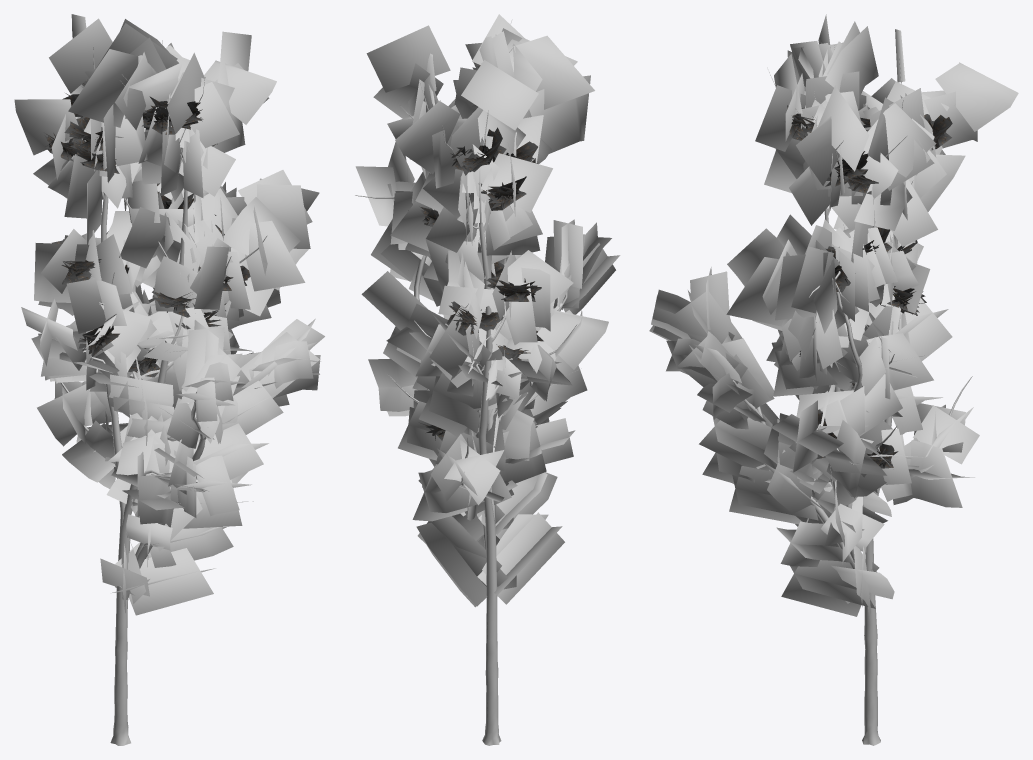
File: Old_Horror_Tree9254.fbx
3 views of the same model, side by side, from view 1: azimuth 30°, elevation 25°; view 2: azimuth 150°, elevation 25°; view 3: azimuth 270°, elevation 25° (orthographic). The views are drawn at different scales.
Parts seen in each view (by area): view 1: Old_Horror_Tree9254_Branches_08, Old_Horror_Tree9254_diffus, Old_Horror_Tree9254_RiverBirchBark; view 2: Old_Horror_Tree9254_Branches_08, Old_Horror_Tree9254_RiverBirchBark, Old_Horror_Tree9254_diffus; view 3: Old_Horror_Tree9254_Branches_08, Old_Horror_Tree9254_RiverBirchBark, Old_Horror_Tree9254_diffus.
Boxes of the visible parts, x1,y1,x2,y2 form: Old_Horror_Tree9254_Branches_08: [14, 14, 324, 615]; Old_Horror_Tree9254_diffus: [44, 80, 250, 377]; Old_Horror_Tree9254_RiverBirchBark: [52, 36, 267, 745]; Old_Horror_Tree9254_Branches_08: [355, 14, 620, 607]; Old_Horror_Tree9254_RiverBirchBark: [355, 21, 577, 745]; Old_Horror_Tree9254_diffus: [408, 65, 543, 440]; Old_Horror_Tree9254_Branches_08: [649, 14, 1018, 618]; Old_Horror_Tree9254_RiverBirchBark: [732, 43, 972, 745]; Old_Horror_Tree9254_diffus: [785, 105, 952, 468].
Bounding box in the file's own units: 52.33 × 62.62 × 134.
